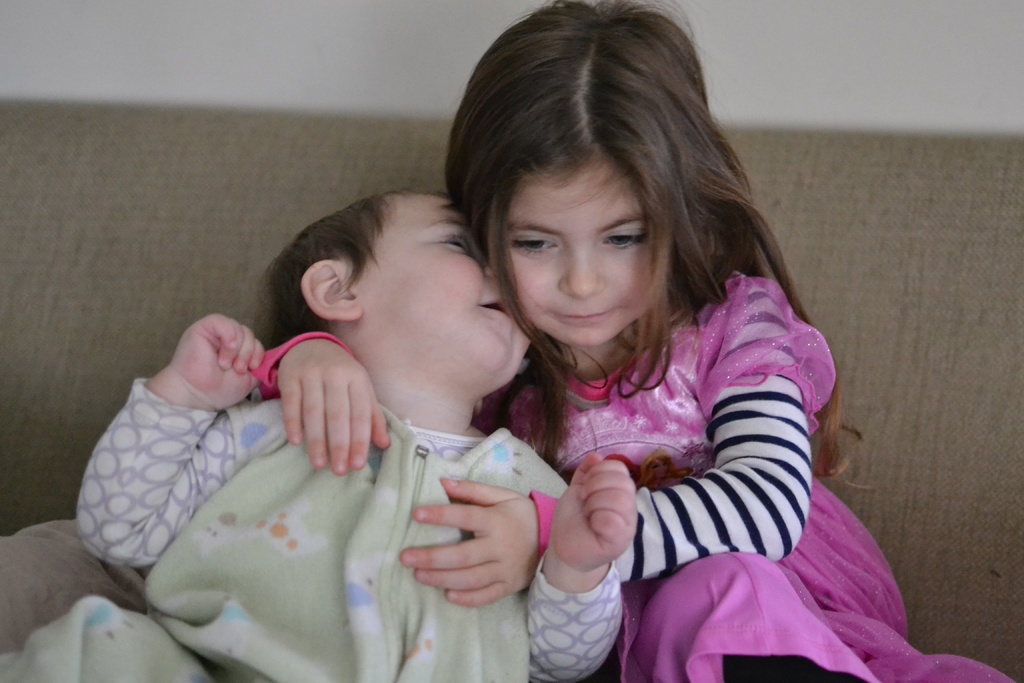Human_hand: (399, 475, 540, 609), (276, 336, 392, 481), (146, 309, 266, 422), (552, 453, 639, 573)
